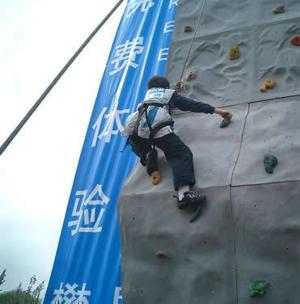person: (125, 75, 235, 210)
